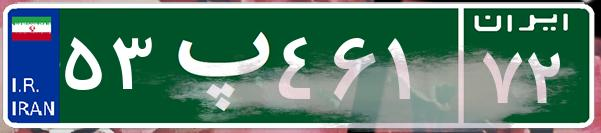1: (385, 28, 445, 110)
2: (525, 38, 570, 115)
3: (110, 28, 158, 105)
4: (273, 28, 330, 110)
5: (57, 26, 110, 107)
6: (330, 28, 385, 110)
7: (475, 38, 525, 113)
پ: (158, 15, 273, 115)
